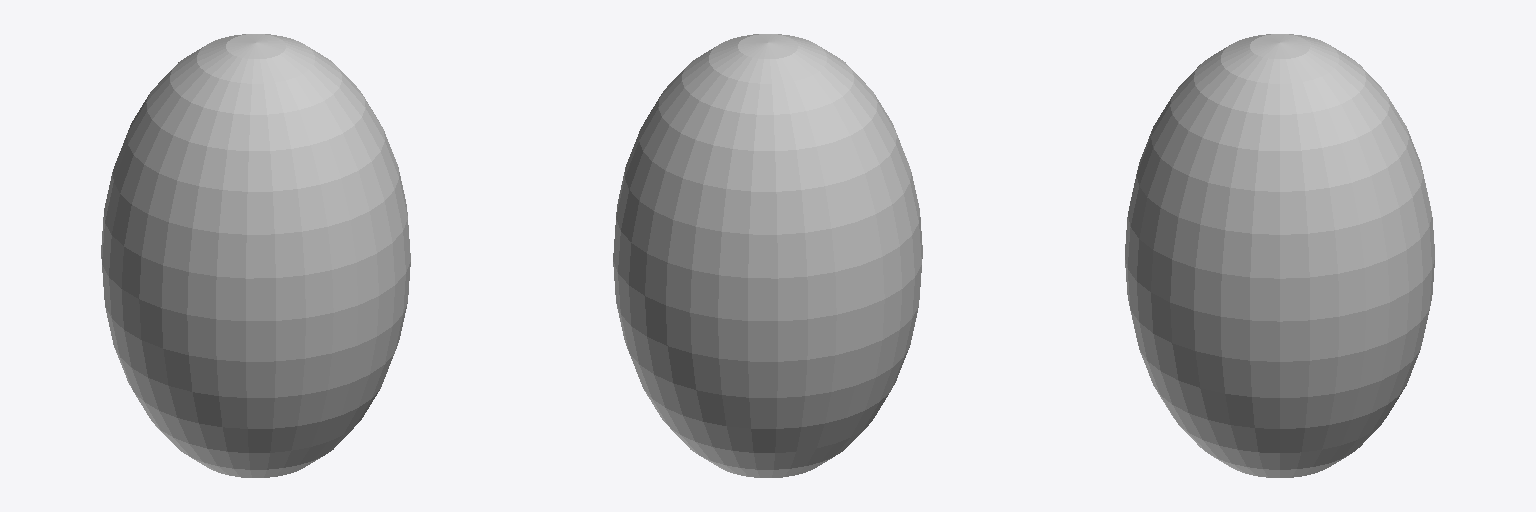
File: Neck.obj
3 views of the same model, side by side, from view 1: azimuth 30°, elevation 25°; view 2: azimuth 150°, elevation 25°; view 3: azimuth 270°, elevation 25° (orthographic).
Parts seen in each view (by area): view 1: Neck_Sphere.005; view 2: Neck_Sphere.005; view 3: Neck_Sphere.005.
Boxes of the visible parts, x1,y1,x2,y2 form: Neck_Sphere.005: [101, 34, 410, 477]; Neck_Sphere.005: [613, 34, 922, 477]; Neck_Sphere.005: [1125, 34, 1434, 477].
Bounding box in the file's own units: 0.5811 × 0.8811 × 0.5811.